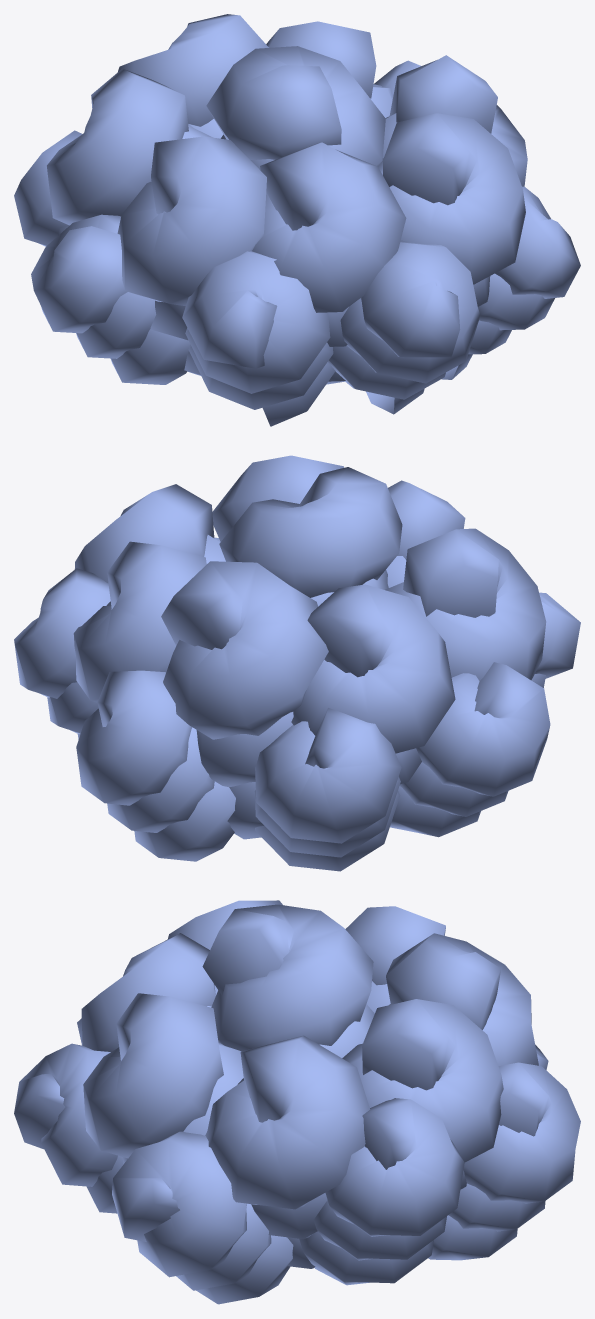
Rendered from stitch.glb.
3 renders of one model, top to bottom at view 1: azimuth 30°, elevation 25°; view 2: azimuth 150°, elevation 25°; view 3: azimuth 270°, elevation 25°, orthographic.
Parts seen in each view (by area): view 1: stitch; view 2: stitch; view 3: stitch.
Boxes of the visible parts, <box> form: stitch: <box>14,14,580,426</box>; stitch: <box>14,455,580,871</box>; stitch: <box>14,900,580,1304</box>.
Bounding box in the file's own units: 0.9801 × 0.6357 × 1.02.
